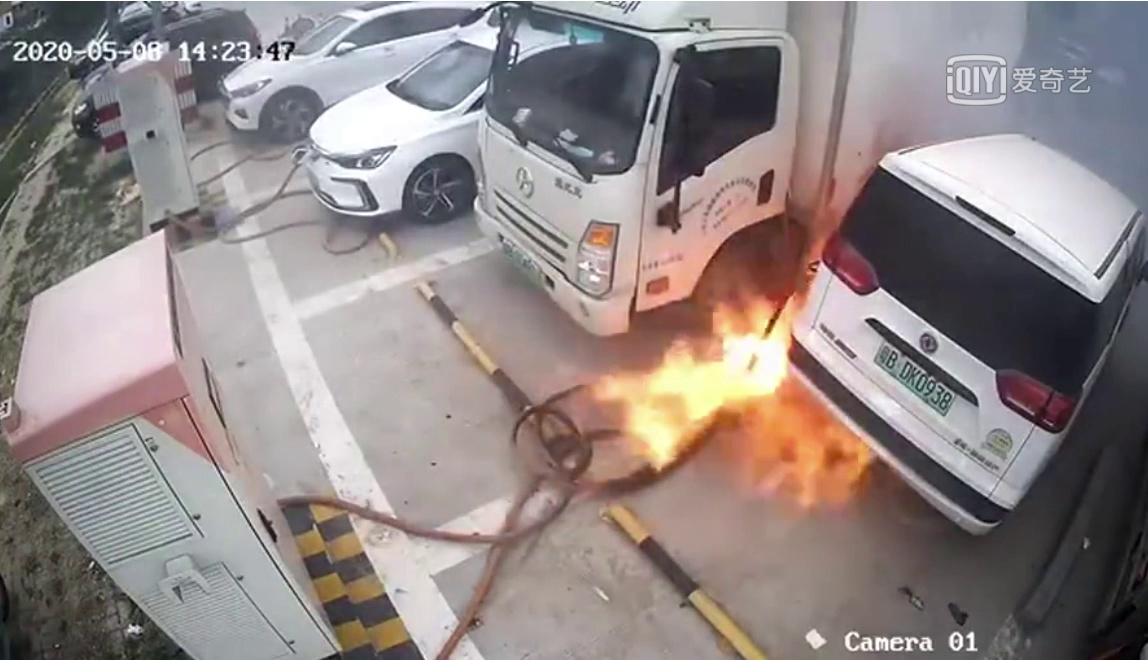fire: (567, 310, 857, 509)
